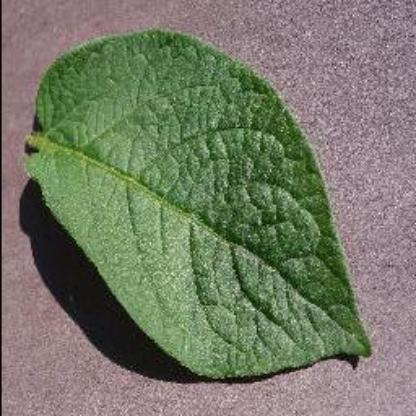Healthy-plant: (17, 16, 389, 392)
